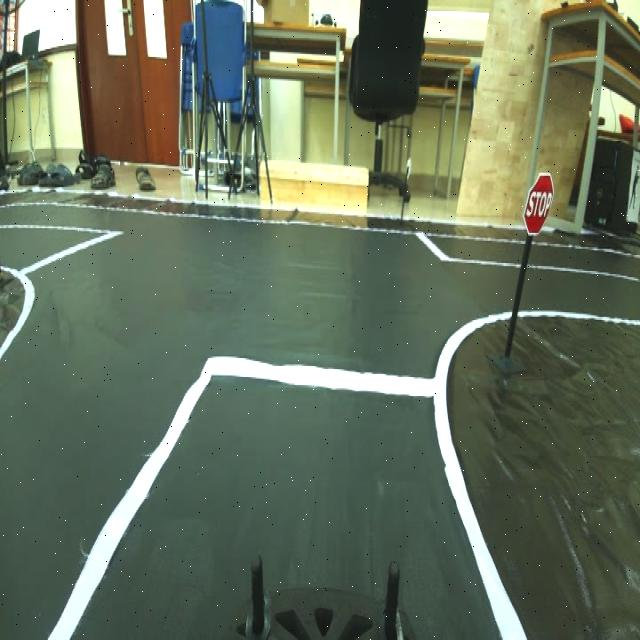stop: (518, 158, 556, 246)
